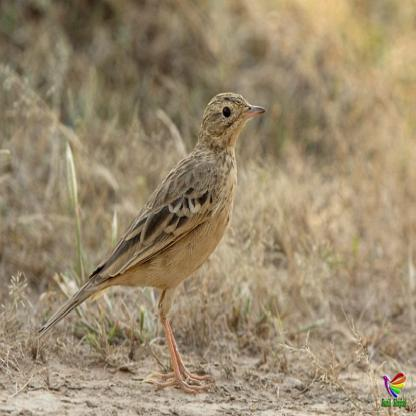Burung: (37, 93, 266, 386)
